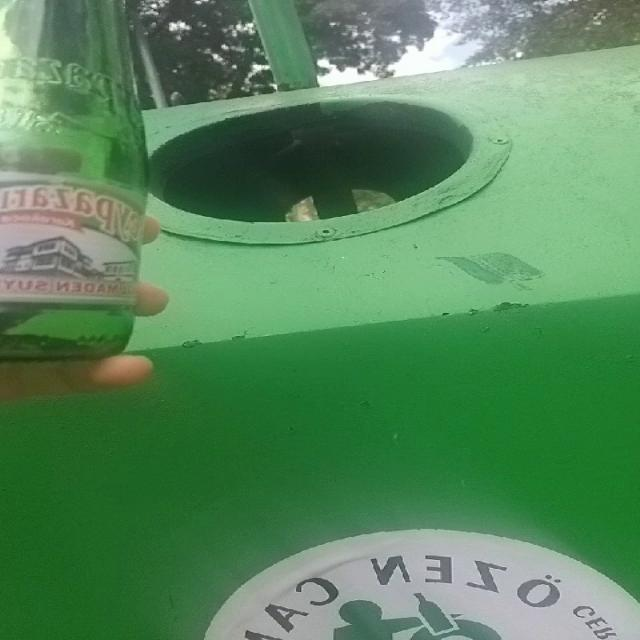glass: (0, 0, 147, 360)
